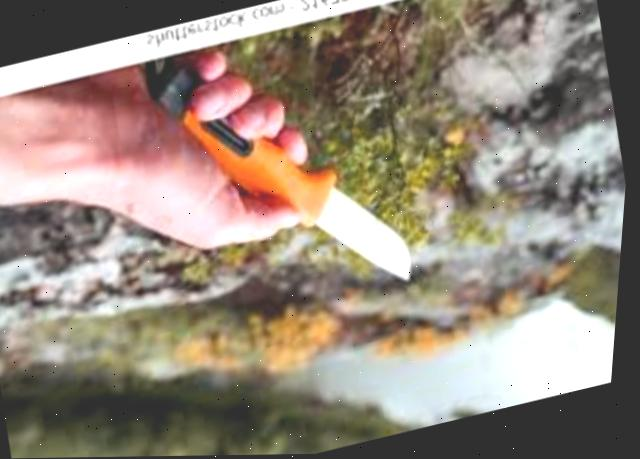pocket-knife: (124, 7, 452, 347)
